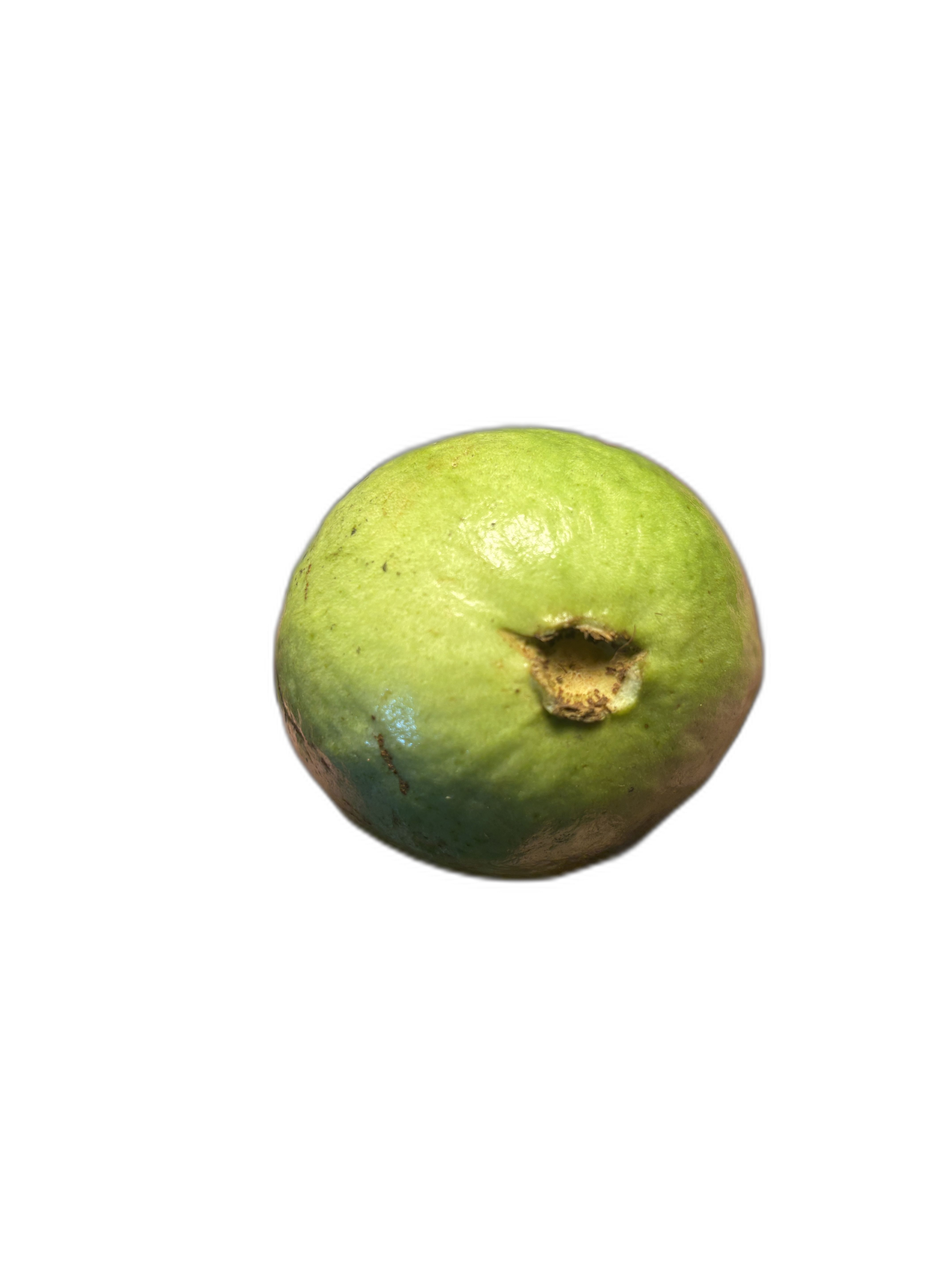guava: (269, 7, 842, 1144)
